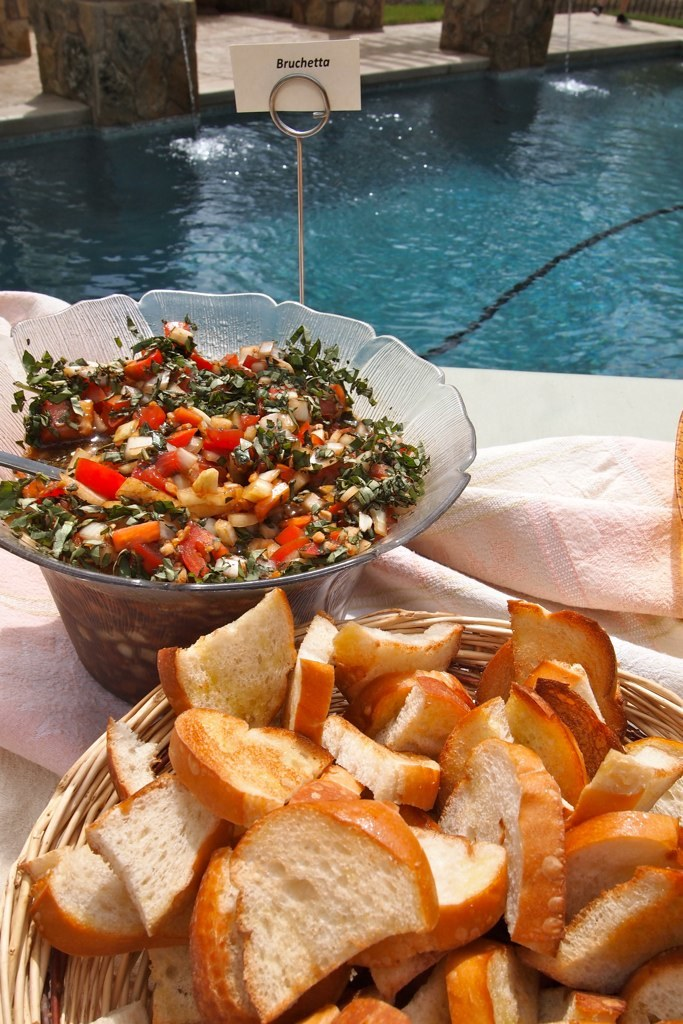Tomato: (40, 353, 411, 572), (70, 455, 124, 490)
